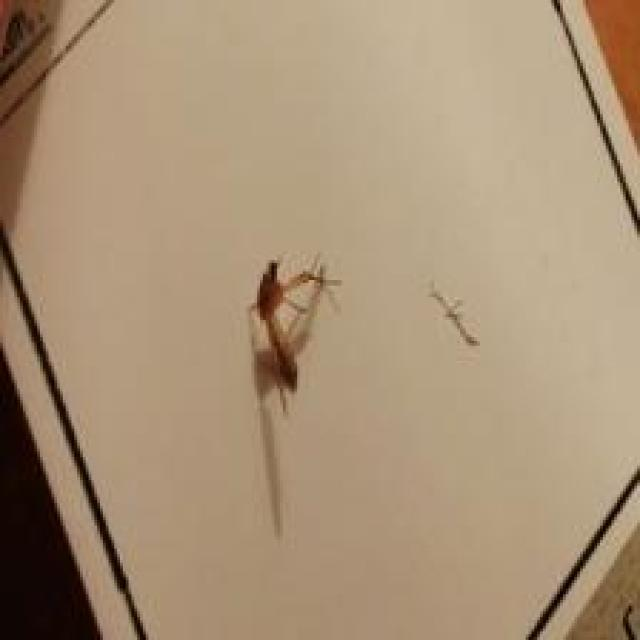Culex: (245, 253, 342, 538)
